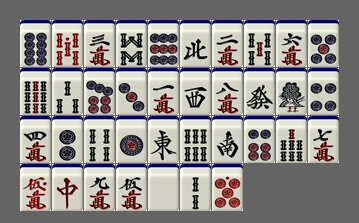0m: (20, 164, 51, 211)
0p: (212, 164, 243, 211)
0s: (52, 20, 83, 67)
1m: (148, 68, 179, 115)
1p: (116, 116, 147, 163)
1s: (276, 68, 307, 115)
1z: (148, 116, 179, 163)
2m: (212, 20, 243, 67)
2p: (52, 116, 83, 163)
2s: (180, 164, 211, 211)
2z: (212, 116, 243, 163)
3m: (84, 20, 115, 67)
3p: (116, 68, 147, 115)
3s: (52, 68, 83, 115)
3z: (180, 68, 211, 115)
4m: (20, 116, 51, 163)
4p: (308, 68, 339, 115)
4s: (84, 116, 115, 163)
4z: (180, 20, 211, 67)
5m: (116, 164, 147, 211)
5p: (308, 20, 339, 67)
5s: (244, 20, 275, 67)
5z: (148, 164, 179, 211)
6m: (276, 20, 307, 67)
6p: (244, 116, 275, 163)
6s: (180, 116, 211, 163)
6z: (244, 68, 275, 115)
7m: (308, 116, 339, 163)
7p: (84, 68, 115, 115)
7s: (276, 116, 307, 163)
7z: (52, 164, 83, 211)
8m: (212, 68, 243, 115)
8p: (20, 20, 51, 67)
8s: (116, 20, 147, 67)
9m: (84, 164, 115, 211)
9p: (148, 20, 179, 67)
9s: (20, 68, 51, 115)
